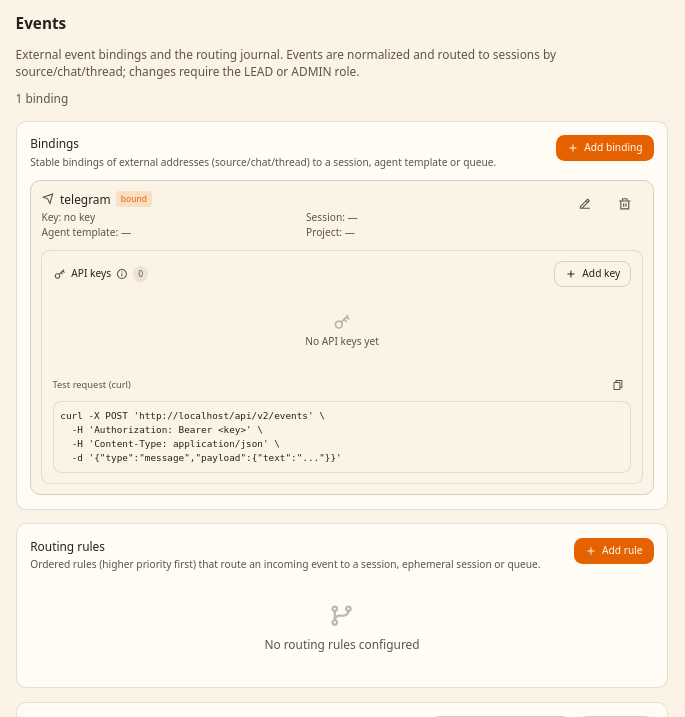
Test case: EventsAdminSettings — API-ключи привязки (ADR-089) › создание ключа без метки не вызывает API
Click the button "Add key" at (593, 274), box [554,261,631,287]
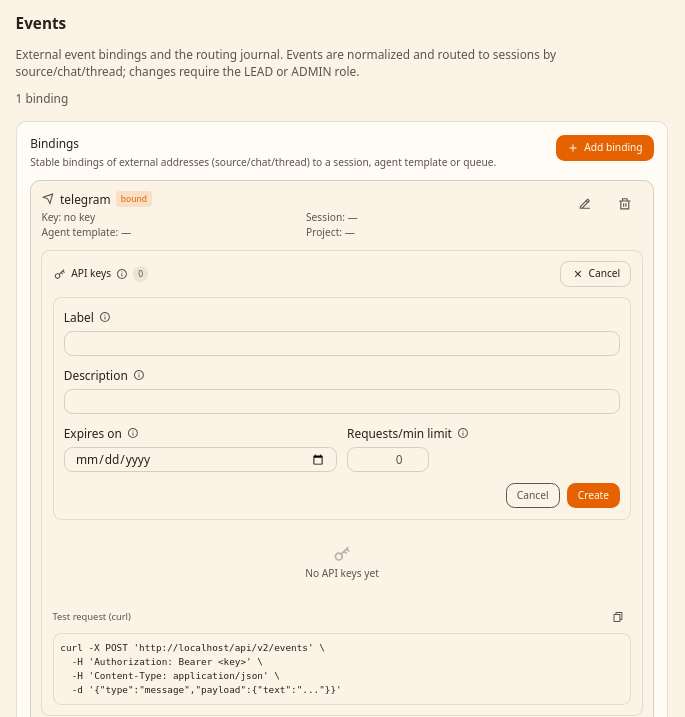
Click the button "Create" at (593, 496), box [566,483,620,508]
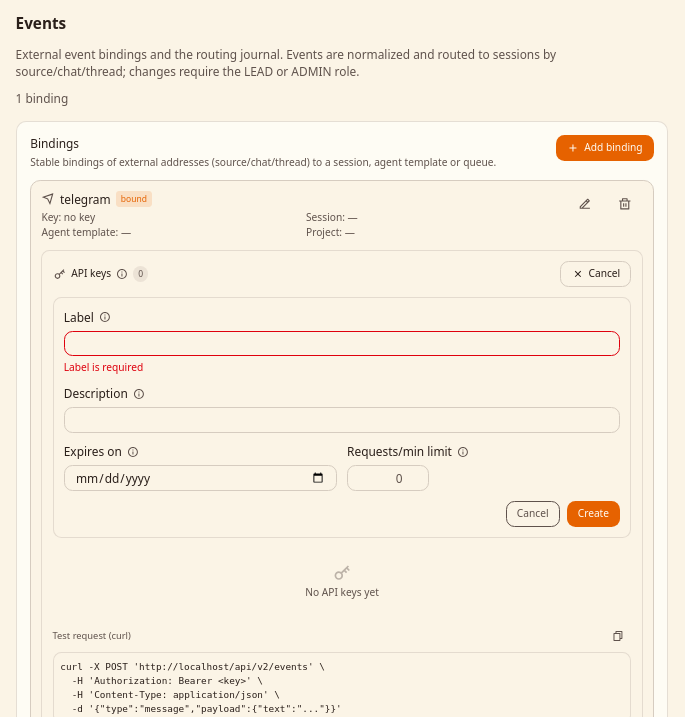
Check: the text "Label is required" is shown, box [64,360,143,374]
